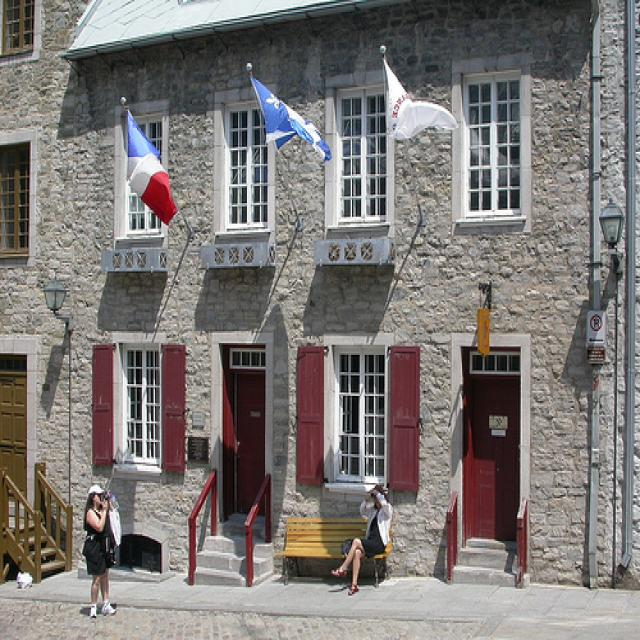person: (336, 477, 399, 602), (79, 477, 119, 621)
